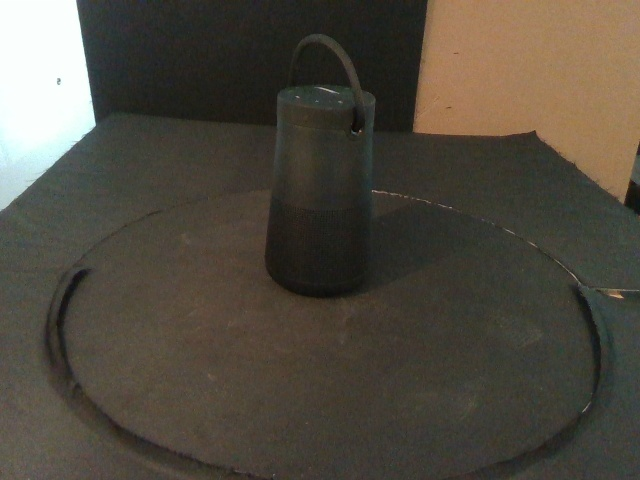speaker: (263, 84, 376, 299)
